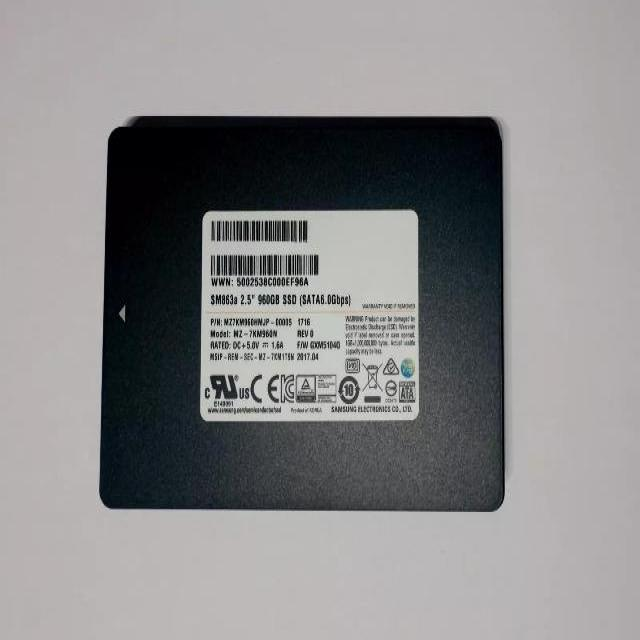DISK: (98, 114, 508, 513)
